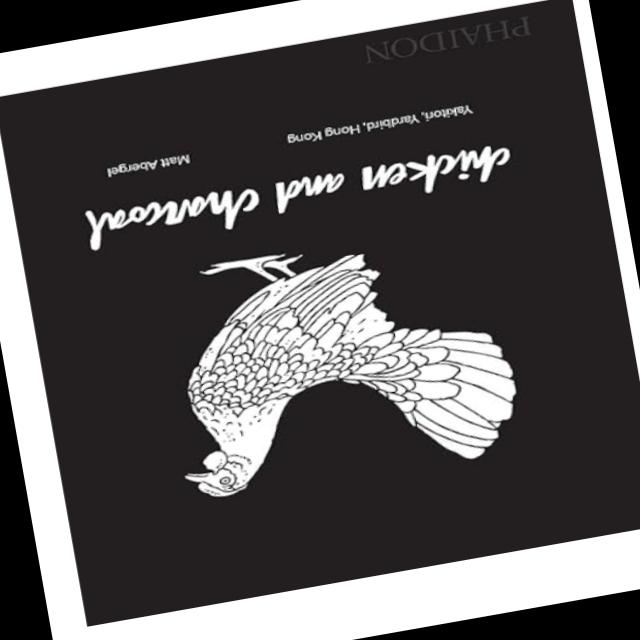titles-or-authors: (64, 128, 534, 258), (95, 144, 202, 186)
